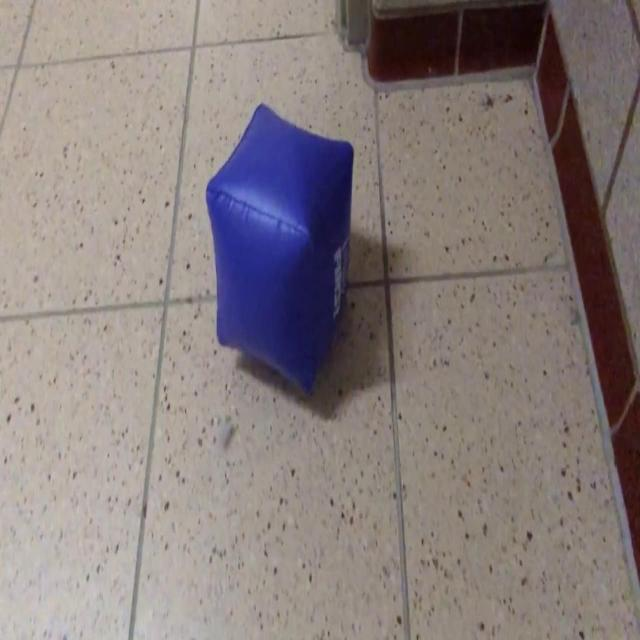frc_cube: (206, 102, 354, 395)
